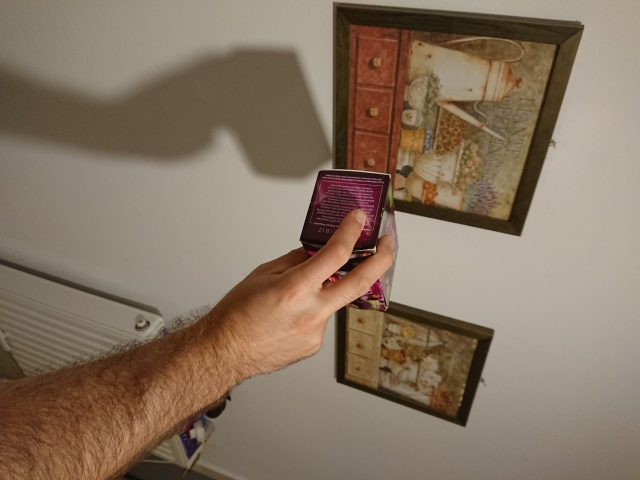Franck Black Currant Tea 60g: (297, 165, 402, 313)
